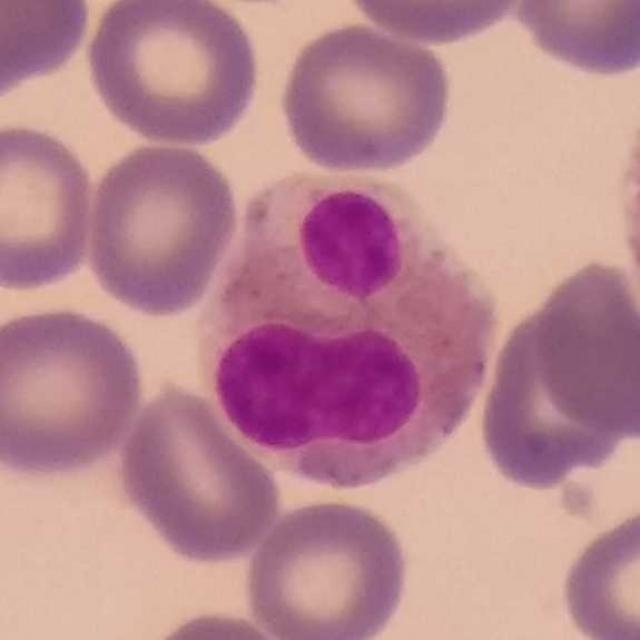eosino: (194, 167, 500, 492)
